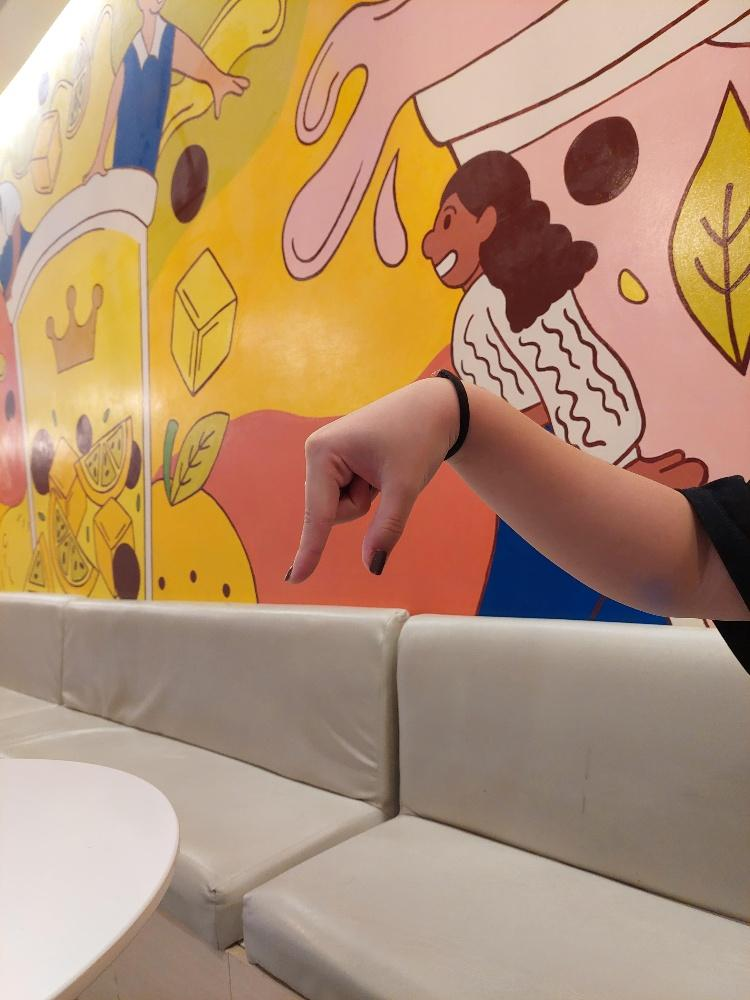q: (280, 372, 470, 586)
